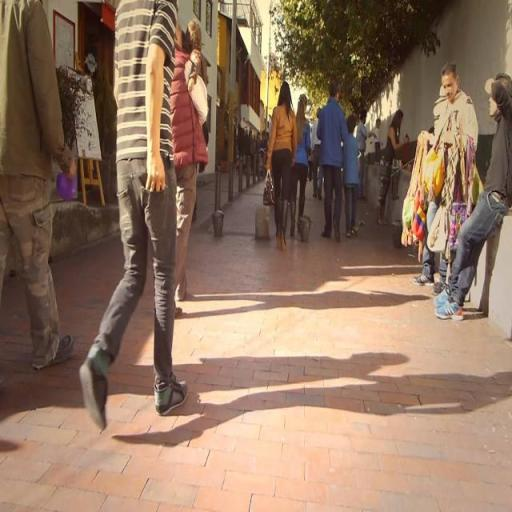person: (80, 1, 192, 429), (1, 1, 77, 370), (435, 69, 512, 320), (412, 62, 481, 295), (172, 18, 207, 324), (267, 81, 299, 254), (376, 108, 410, 232), (323, 80, 345, 244), (290, 94, 312, 240), (342, 111, 363, 239), (358, 108, 374, 207), (313, 108, 324, 205), (375, 116, 383, 167)
